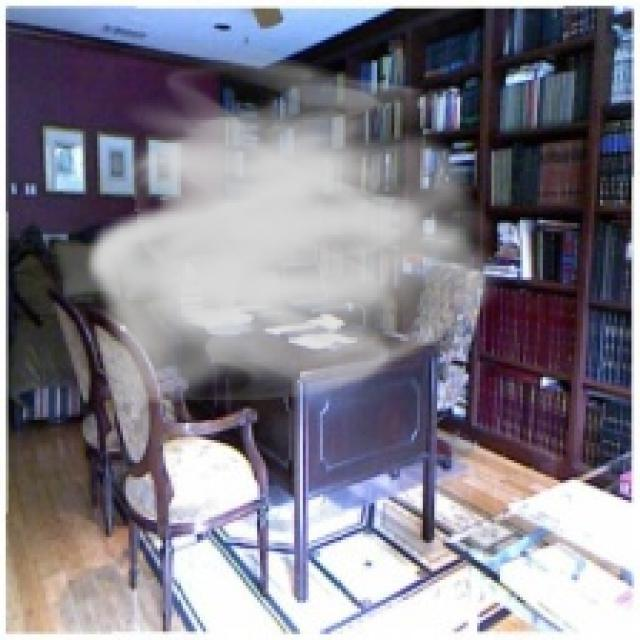Smoke: (82, 37, 508, 414)
